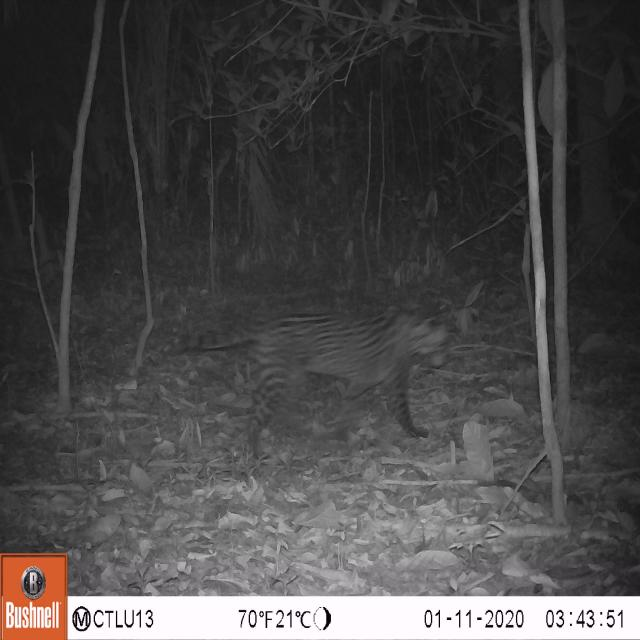Ocelote: (189, 289, 465, 467)
